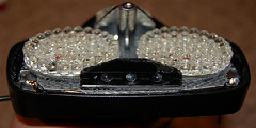LED: (23, 27, 116, 80), (136, 25, 233, 75)
